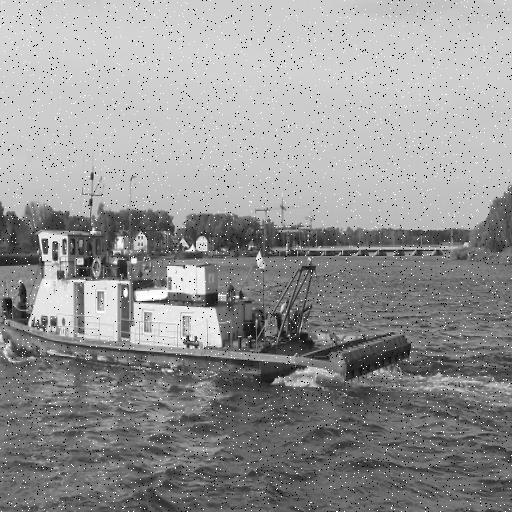tugboat: (1, 151, 419, 404)
